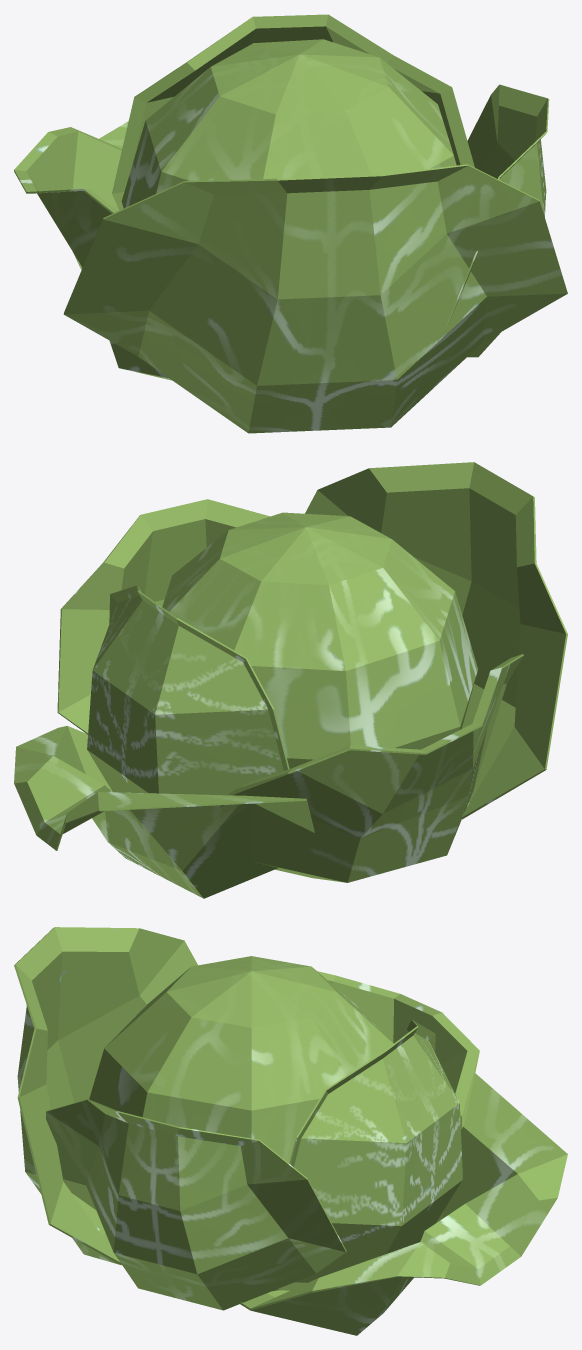
The model's file is cabage.fbx.
3 views of the same model, one above another, from view 1: azimuth 30°, elevation 25°; view 2: azimuth 150°, elevation 25°; view 3: azimuth 270°, elevation 25° (orthographic). The views are drawn at different scales.
Parts seen in each view (by area): view 1: Sphere.005; view 2: Sphere.005; view 3: Sphere.005.
Boxes of the visible parts, x1,y1,x2,y2 form: Sphere.005: (14,14,567,433); Sphere.005: (14,462,567,898); Sphere.005: (14,927,567,1335).
Size of the model in its own units: 292 by 199 by 326.
1 material, 1 textured.
